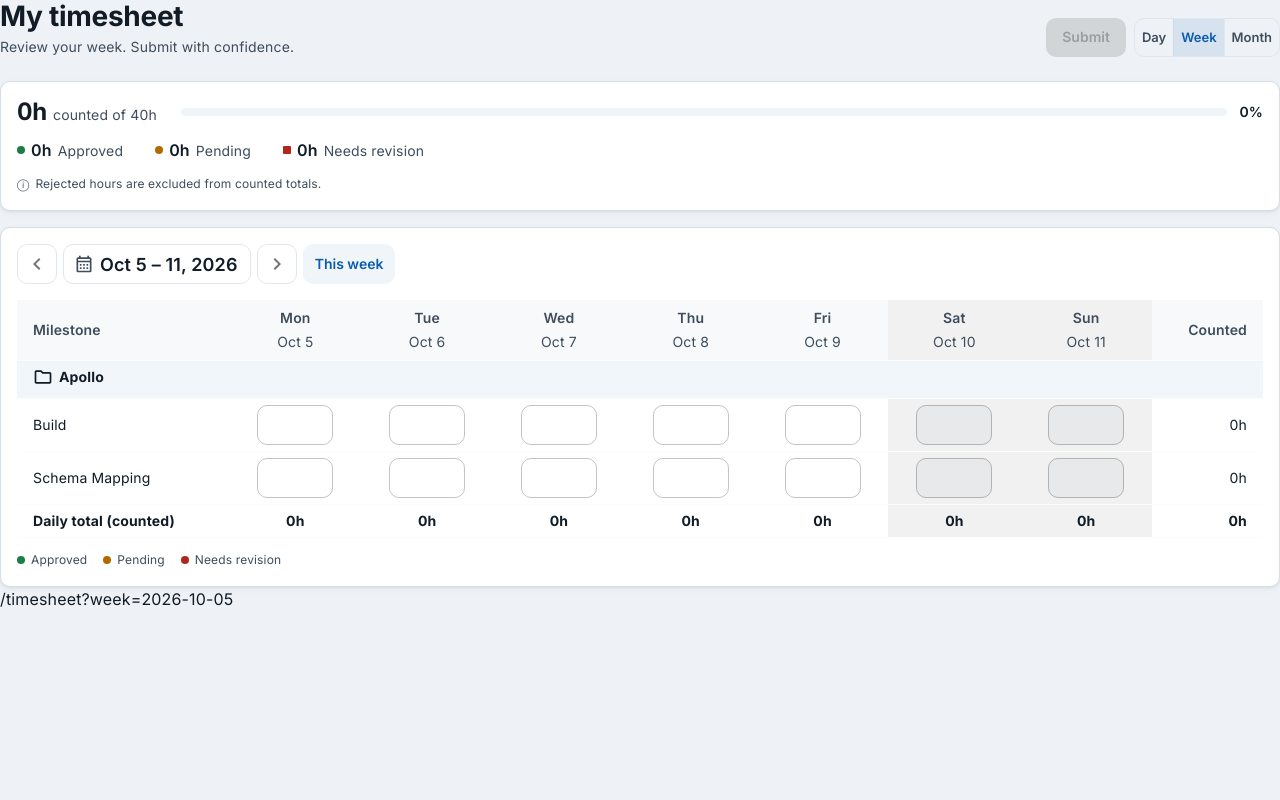
Scenario: nothing is sent while a week loads, and typing on a row closed since is held back › typing while a week loads is never dropped silently: leaving asks first, and closing the tab warns
Check: the field named "Schema Mapping, Tue Oct 6" is shown, box 389,458 -> 465,498
Click the button named "Next week": (277, 264) 257,244 -> 297,284
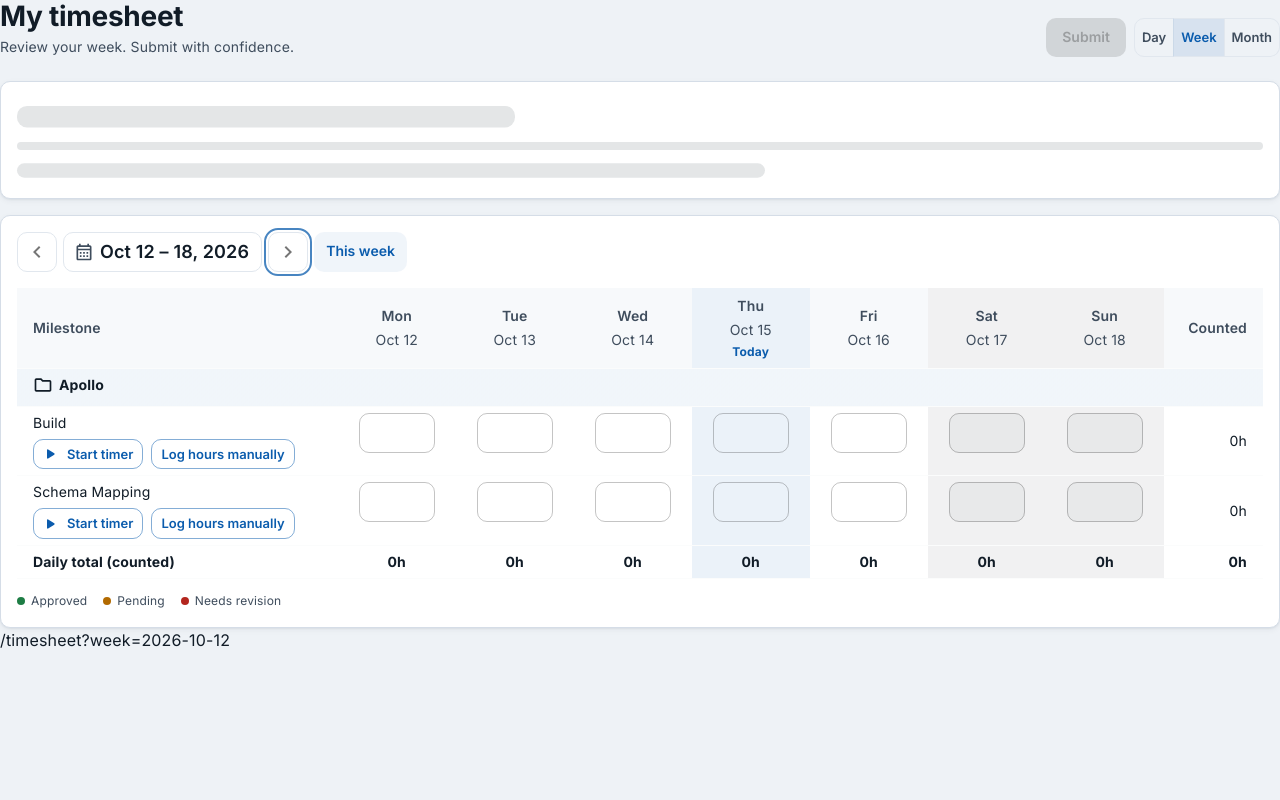
Check: the heading "Oct 12 – 18, 2026" is shown, box 100,241 -> 249,262
In the field named "Build, Wed Oct 14": (633, 433) 595,413 -> 671,453, type "3"
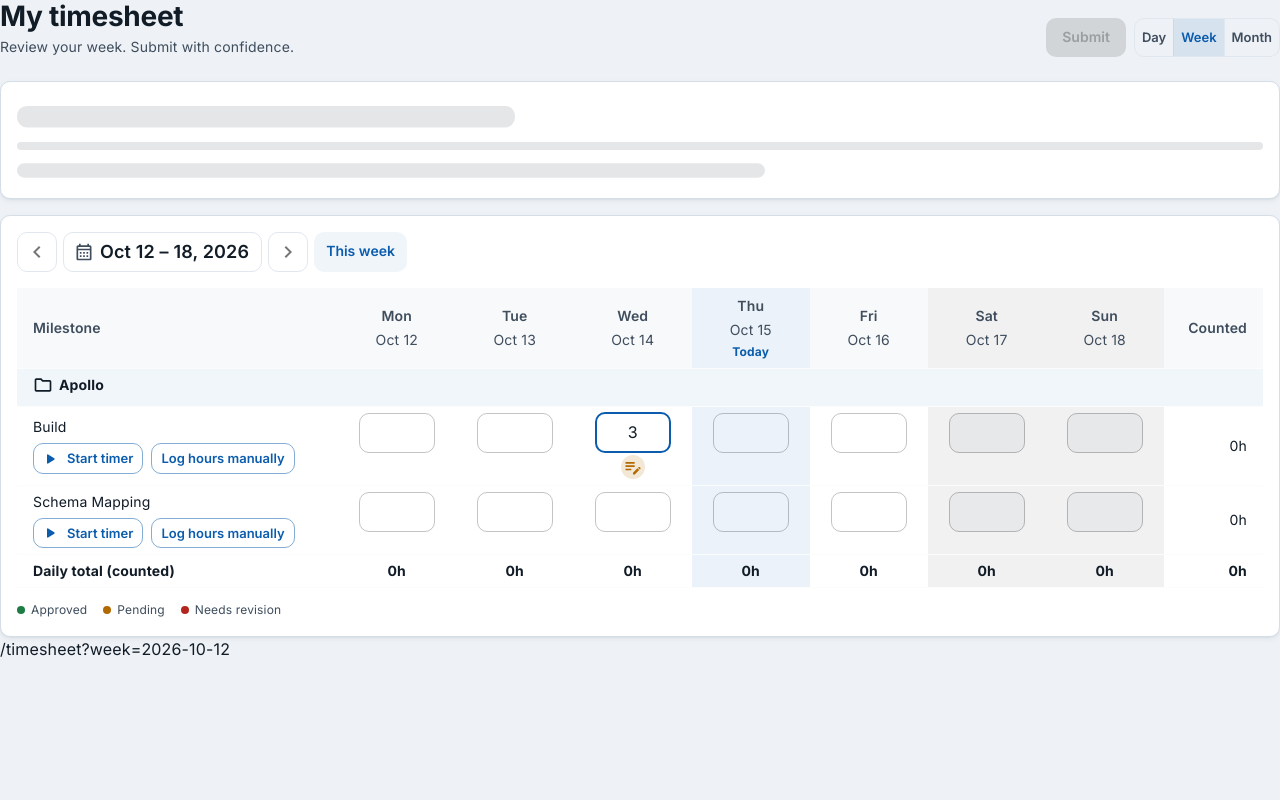
Check: the button "Submit" is disabled, box 1046,18 -> 1126,57
Click the button named "Next week": (288, 252) 268,232 -> 308,272
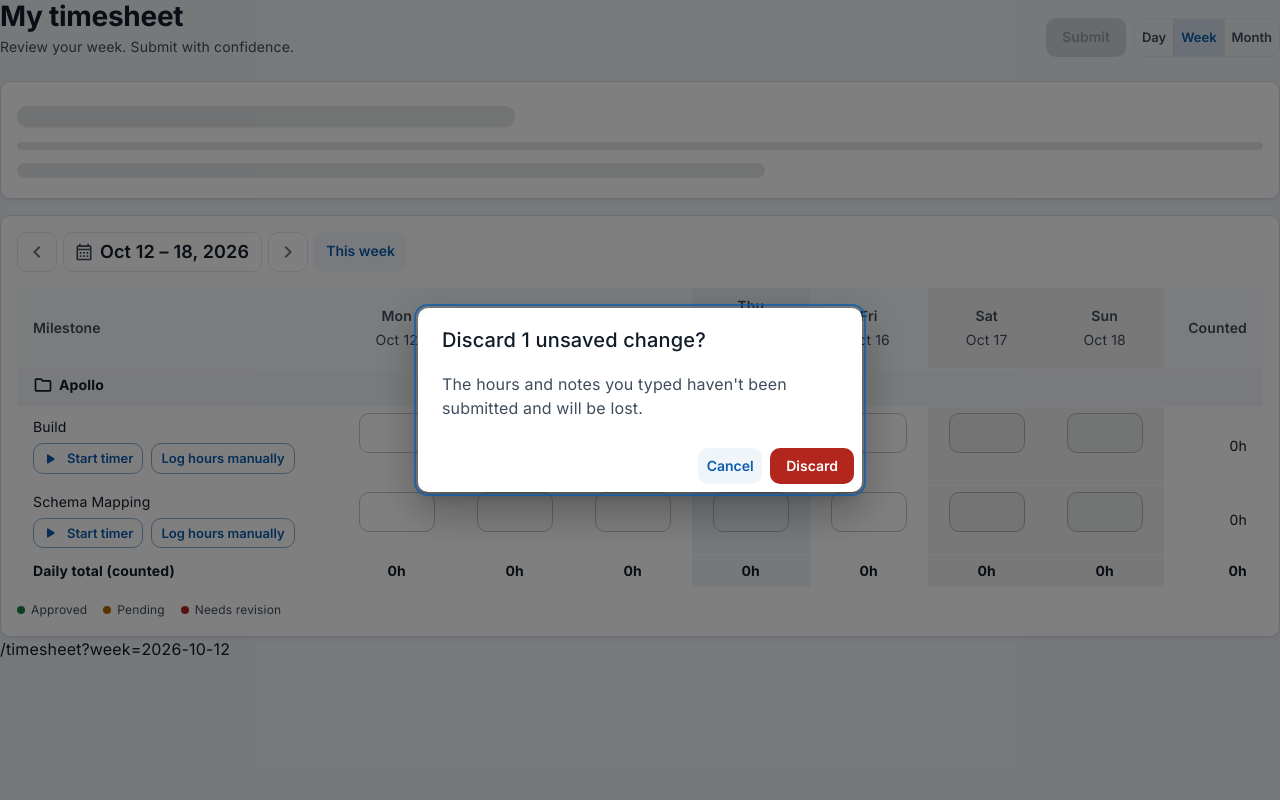
Click the button "Cancel": (730, 466) 698,448 -> 762,484
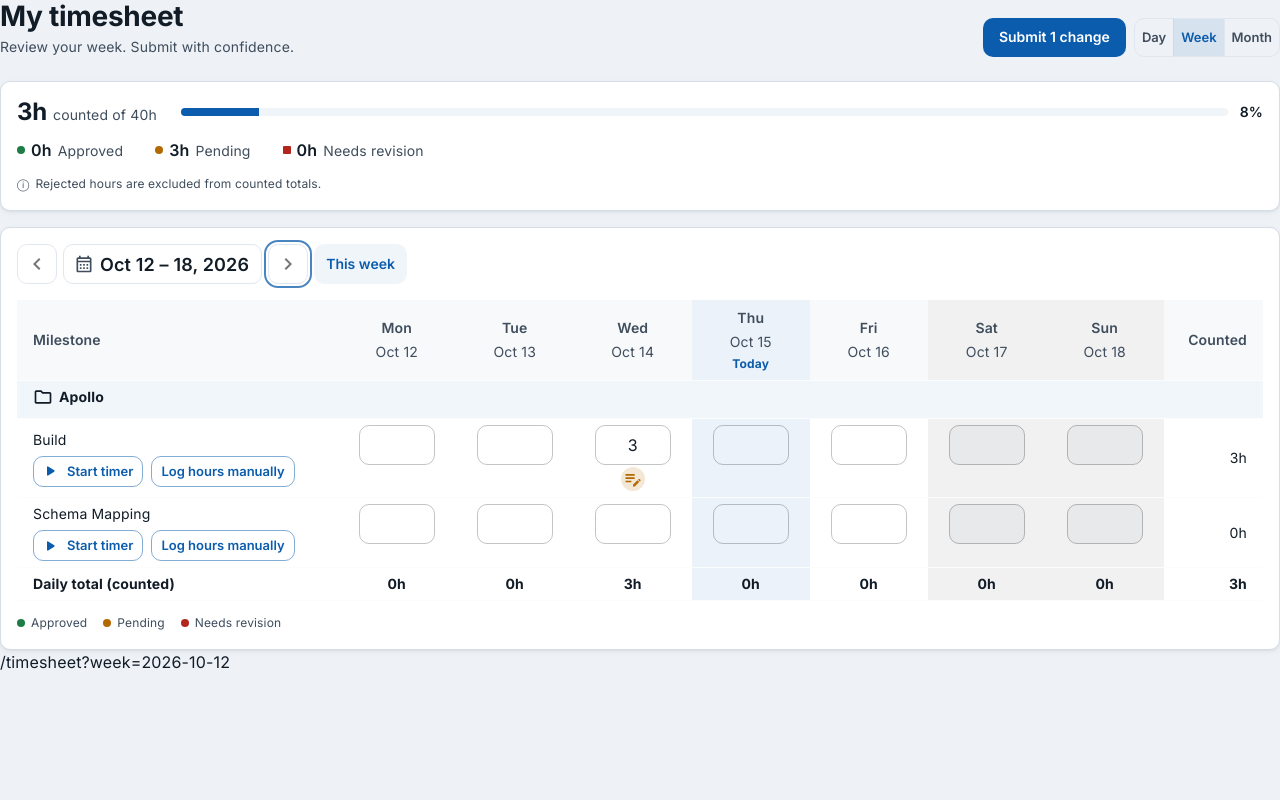
Check: the heading "Oct 12 – 18, 2026" is shown, box 100,254 -> 249,275
Check: the dialog is gone
Check: the button "Submit 1 change" is enabled, box 983,18 -> 1126,57
